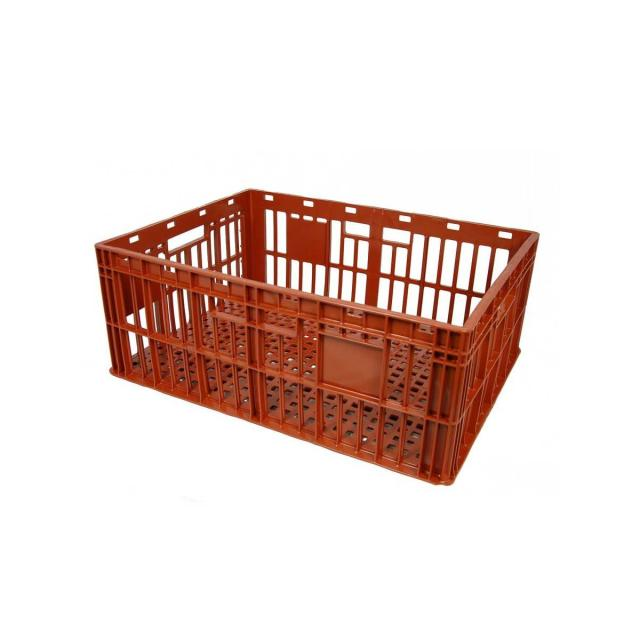basket: (67, 165, 540, 495)
